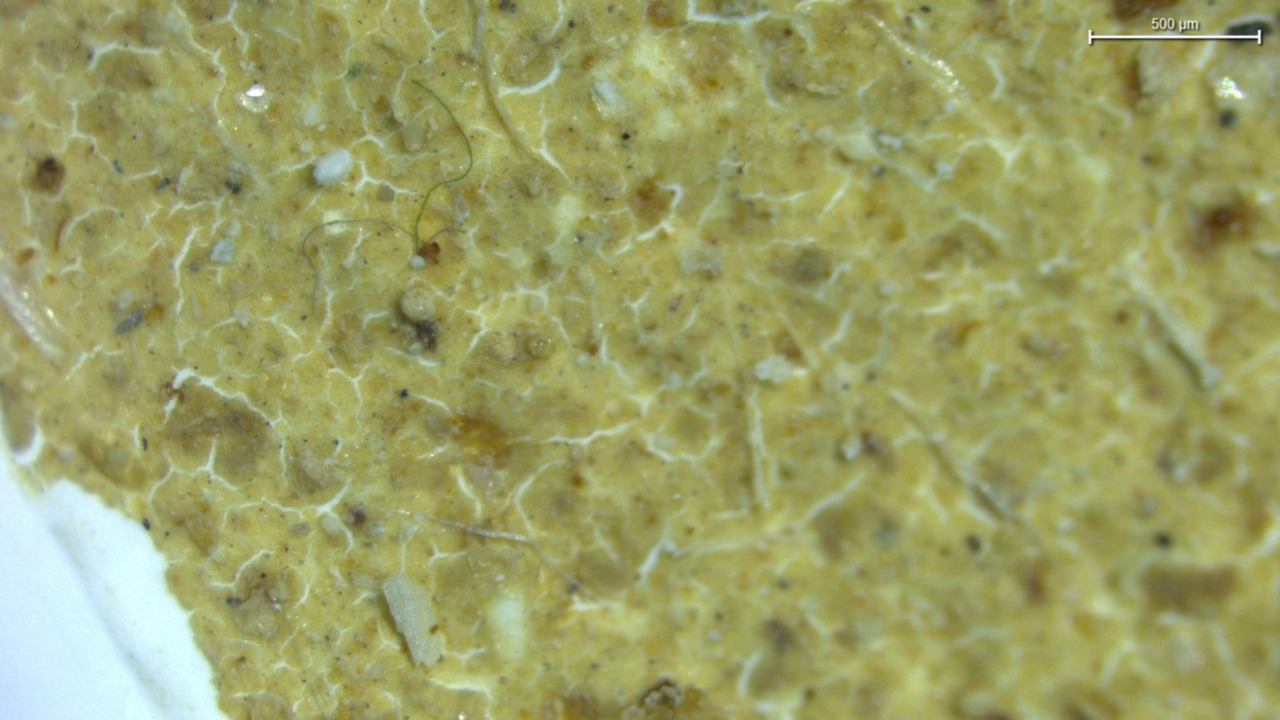microplastic_fragment: (382, 573, 444, 666), (312, 148, 352, 186), (398, 287, 434, 323)
